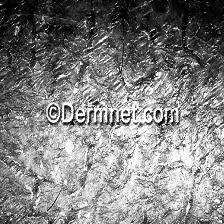Non-Cancerous Skin Condition: (0, 128, 224, 224), (0, 0, 224, 90)
